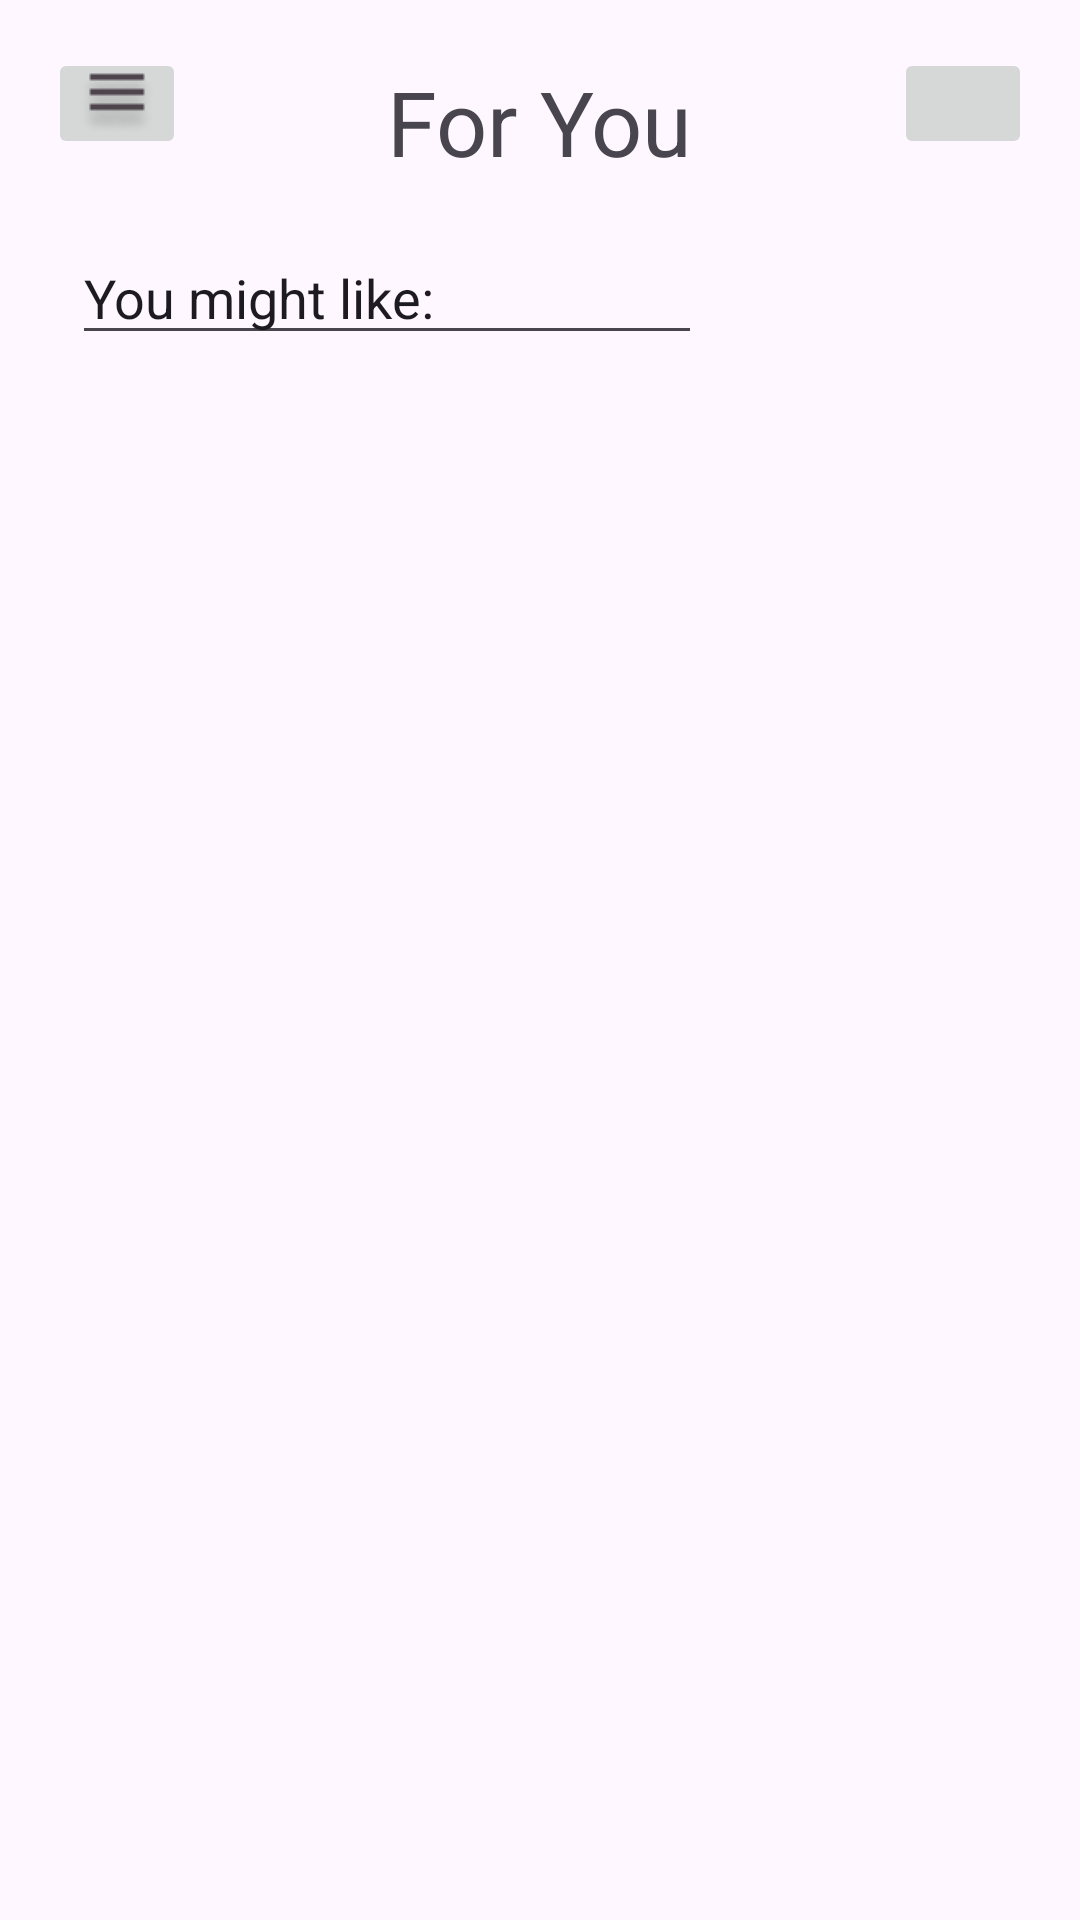

Named icons in this screenshot (1080w x 1920h) and their bounding boxes, bbox(x1, y1, x2, y2):
Hamburger menu button icon nav bar: bbox(60, 66, 174, 141)
